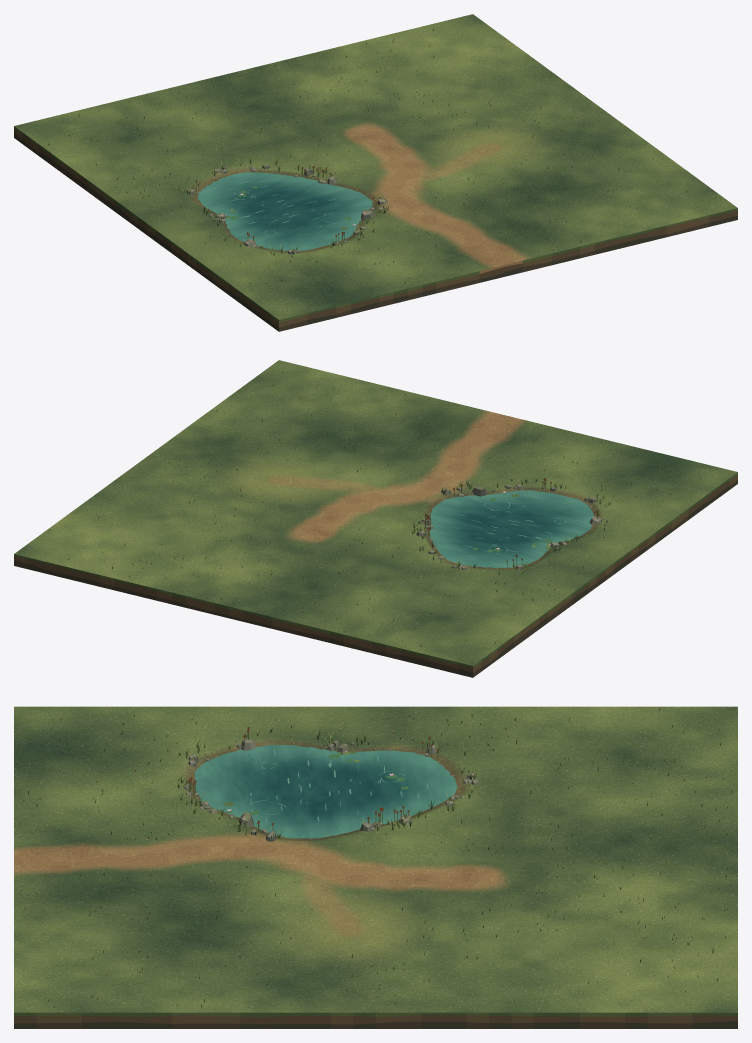
The model's file is forest-terrain.glb.
3 renders of one model, top to bottom at view 1: azimuth 30°, elevation 25°; view 2: azimuth 150°, elevation 25°; view 3: azimuth 270°, elevation 25°, orthographic. The views are drawn at different scales.
Parts seen in each view (by area): view 1: WoodlandFloor, PondWater, ExposedSoilEdge, WoodlandGrass, PondShoreStones, Sedges; view 2: WoodlandFloor, PondWater, ExposedSoilEdge, WoodlandGrass, PondShoreStones, Sedges; view 3: WoodlandFloor, PondWater, ExposedSoilEdge, WoodlandGrass, PondShoreStones, Sedges, WaterGlints.
Part boxes in pixels (box(x1,y1,x2,y2)): WoodlandFloor: box(14, 14, 737, 319); PondWater: box(197, 172, 372, 250); ExposedSoilEdge: box(14, 126, 737, 331); WoodlandGrass: box(48, 29, 716, 311); PondShoreStones: box(186, 165, 387, 254); Sedges: box(175, 156, 389, 257); WoodlandFloor: box(14, 360, 737, 665); PondWater: box(430, 490, 593, 567); ExposedSoilEdge: box(14, 472, 737, 677); WoodlandGrass: box(63, 369, 718, 651); PondShoreStones: box(416, 484, 605, 569); Sedges: box(411, 476, 611, 574); WoodlandFloor: box(14, 706, 737, 1012); PondWater: box(195, 745, 457, 838); ExposedSoilEdge: box(14, 1012, 737, 1028); WoodlandGrass: box(20, 707, 732, 1009); PondShoreStones: box(179, 738, 478, 841); Sedges: box(174, 726, 478, 838); WaterGlints: box(220, 748, 427, 831).
Size of the model in its own units: 32 by 1.59 by 32.
Materials: 35 (2 with a texture image).
